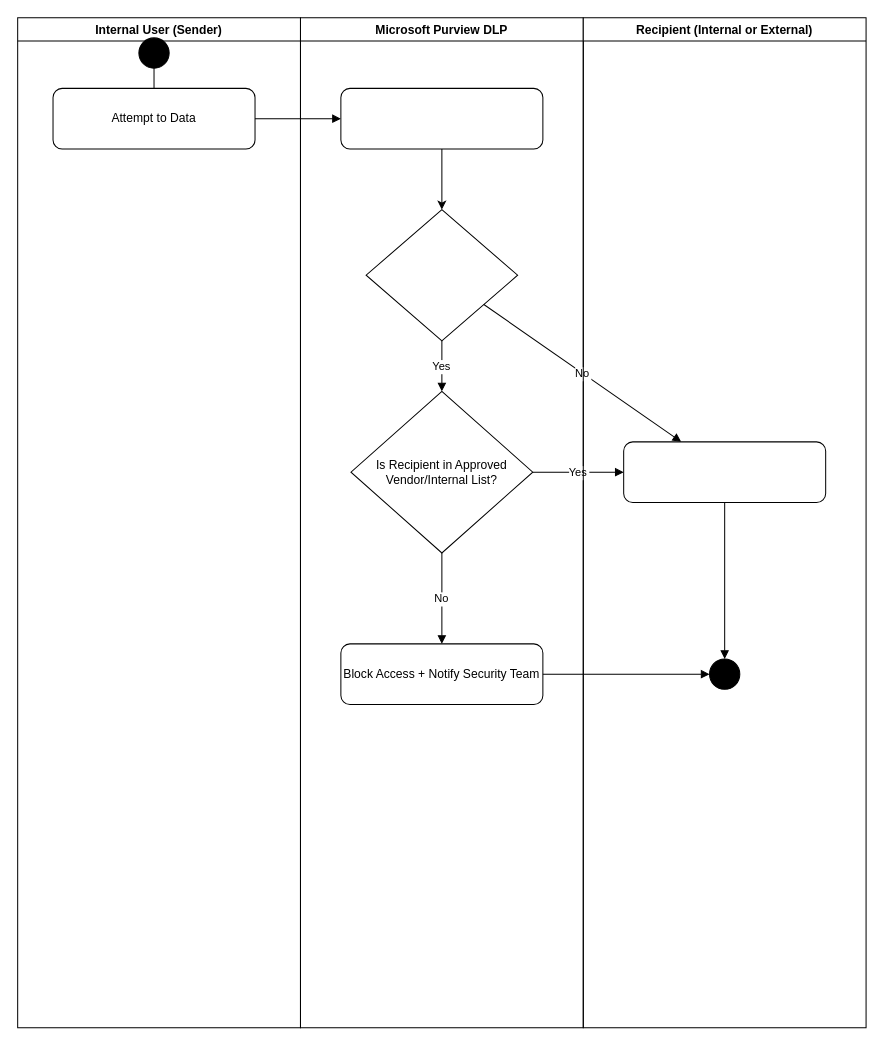
This 884x1045 diagram has some shape labels left out. Each missing label, with the box of its shape:
Allow Share or Access: (623, 441, 826, 502)
Evaluate Sensitivity of Data Being Shared: (340, 87, 543, 149)
Is Data Confidential or Highly Sensitive?: (365, 209, 518, 341)
